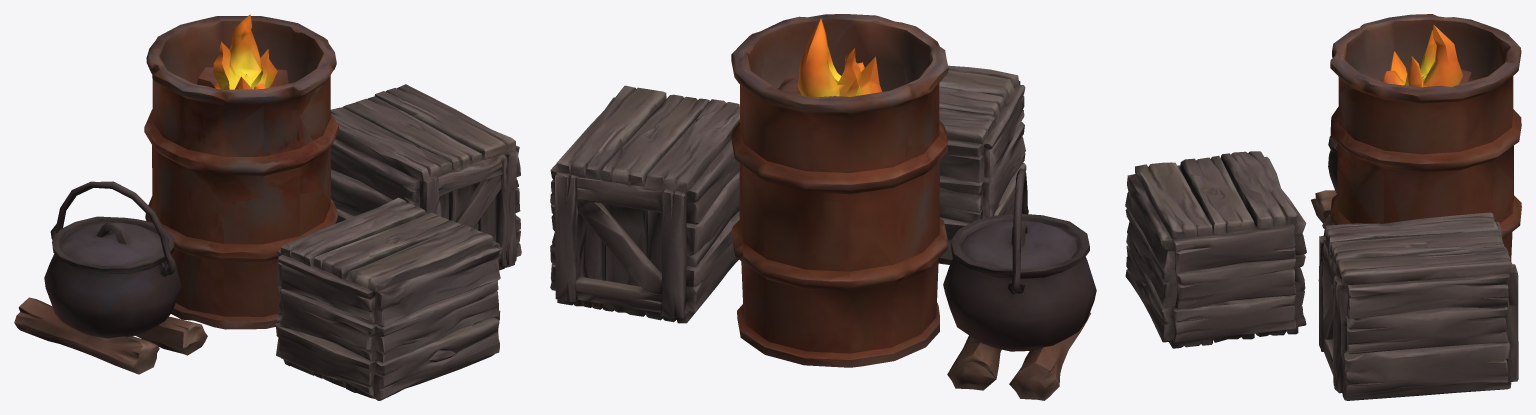
Rendered from isle_barrels_fire_idle.glb.
3 renders of one model, left to right at view 1: azimuth 30°, elevation 25°; view 2: azimuth 150°, elevation 25°; view 3: azimuth 270°, elevation 25°, orthographic. The views are drawn at different scales.
Visible parts, largest first — view 1: tripo_node_44b8495d-b4ef-4061-9325-2f2863a7125a; view 2: tripo_node_44b8495d-b4ef-4061-9325-2f2863a7125a; view 3: tripo_node_44b8495d-b4ef-4061-9325-2f2863a7125a.
Boxes of the visible parts, x1,y1,x2,y2 form: tripo_node_44b8495d-b4ef-4061-9325-2f2863a7125a: (14, 14, 521, 400); tripo_node_44b8495d-b4ef-4061-9325-2f2863a7125a: (550, 14, 1096, 400); tripo_node_44b8495d-b4ef-4061-9325-2f2863a7125a: (1125, 14, 1521, 400).
Bounding box in the file's own units: 1.8 × 1.05 × 1.38.
Materials: 1 (1 with a texture image).
